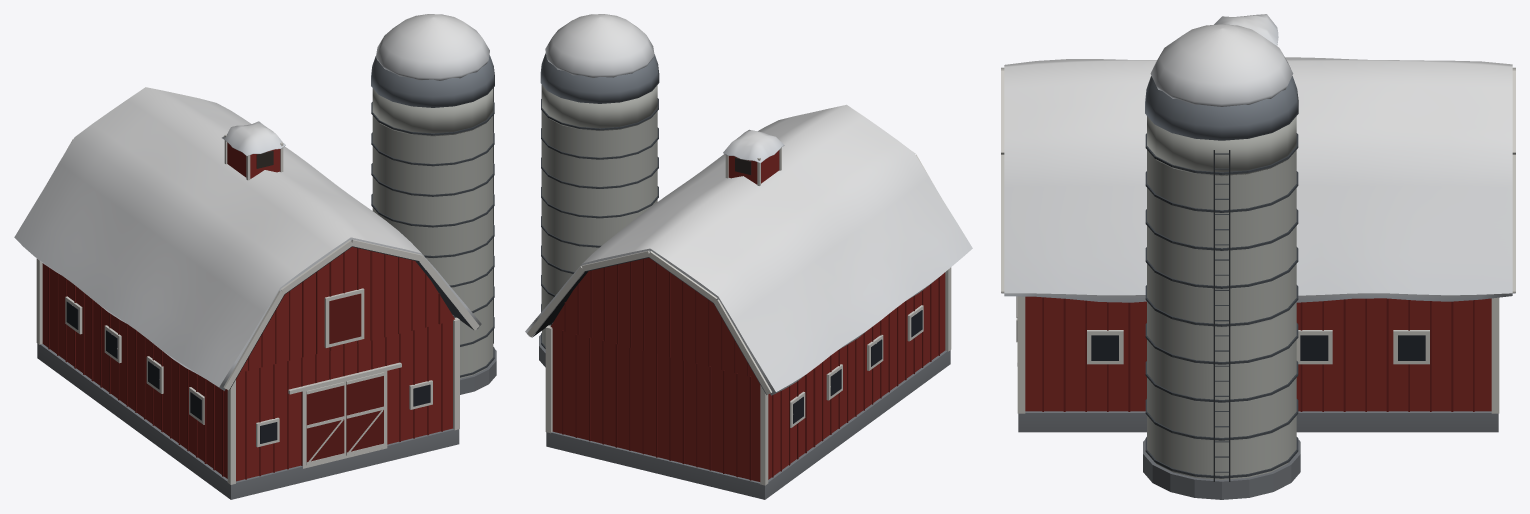
File: barn.glb
The picture shows the model from 3 angles, left to right: view 1: azimuth 30°, elevation 25°; view 2: azimuth 150°, elevation 25°; view 3: azimuth 270°, elevation 25°; orthographic projection. The views are drawn at different scales.
Visible parts, largest first — view 1: barn; view 2: barn; view 3: barn.
Boxes of the visible parts, bbox=[...] form: barn: bbox=[14, 14, 496, 499]; barn: bbox=[525, 14, 972, 499]; barn: bbox=[1001, 14, 1515, 499].
Size of the model in its own units: 15.04 by 13.86 by 14.78.
